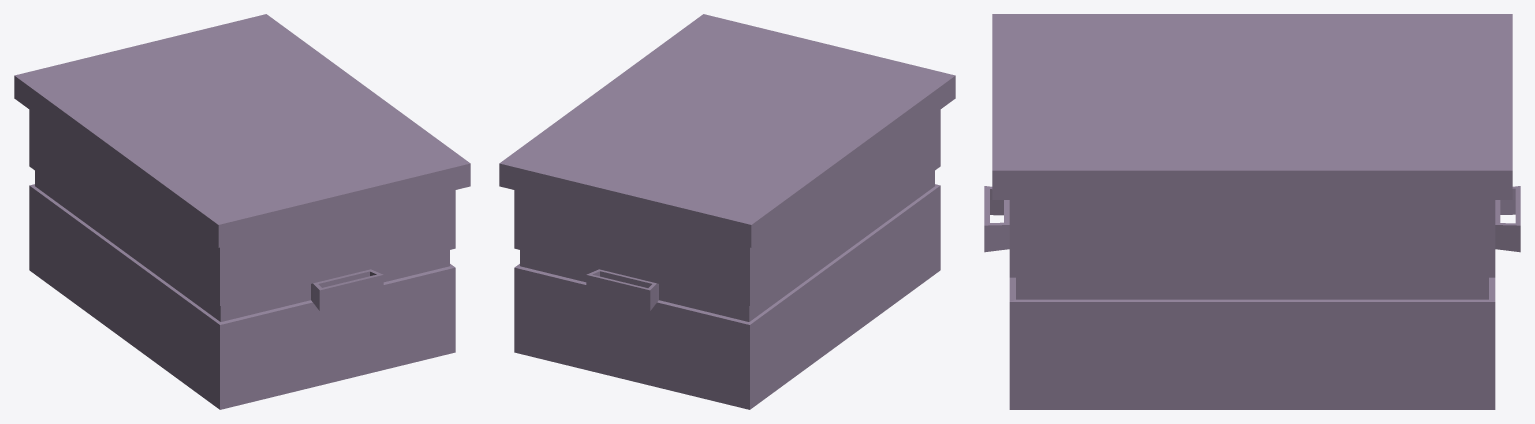
3 renders of one model, left to right at view 1: azimuth 30°, elevation 25°; view 2: azimuth 150°, elevation 25°; view 3: azimuth 270°, elevation 25°, orthographic. The views are drawn at different scales.
Parts seen in each view (by area): view 1: Box1; view 2: Box1; view 3: Box1.
Boxes of the visible parts, box(x1,y1,x2,y2) form: Box1: box(14, 14, 470, 409); Box1: box(499, 14, 955, 409); Box1: box(984, 14, 1520, 409).
Bounding box in the file's own units: 36.38 × 52.61 × 26.47.
